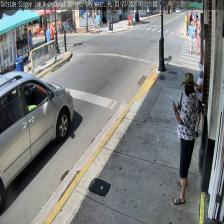person: (172, 73, 199, 205), (191, 51, 205, 137)
